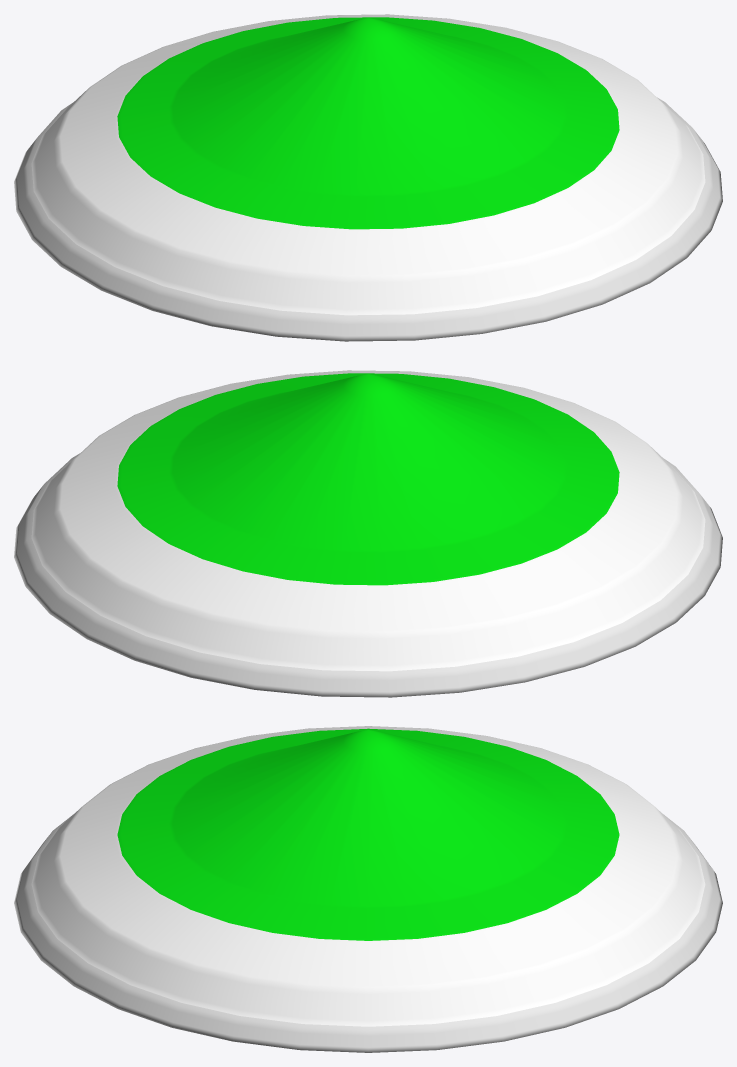
Rendered from Notes_Cymbals.fbx.
The picture shows the model from 3 angles, top to bottom: view 1: azimuth 30°, elevation 25°; view 2: azimuth 150°, elevation 25°; view 3: azimuth 270°, elevation 25°; orthographic projection.
Visible parts, largest first — view 1: Cone.003; view 2: Cone.003; view 3: Cone.003.
Boxes of the visible parts, <box> form: Cone.003: <box>14,14,722,341</box>; Cone.003: <box>14,370,722,697</box>; Cone.003: <box>14,726,722,1052</box>.
Bounding box in the file's own units: 349 × 94.19 × 349.
